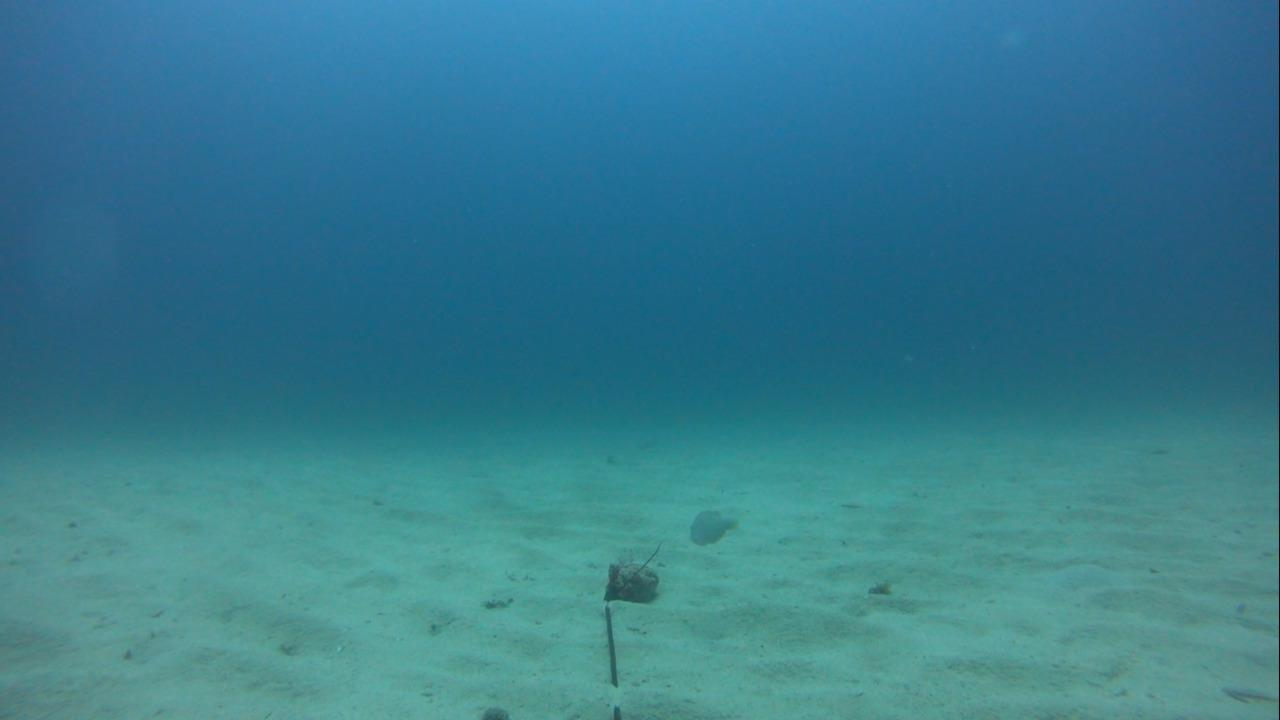raor: (678, 503, 746, 550)
